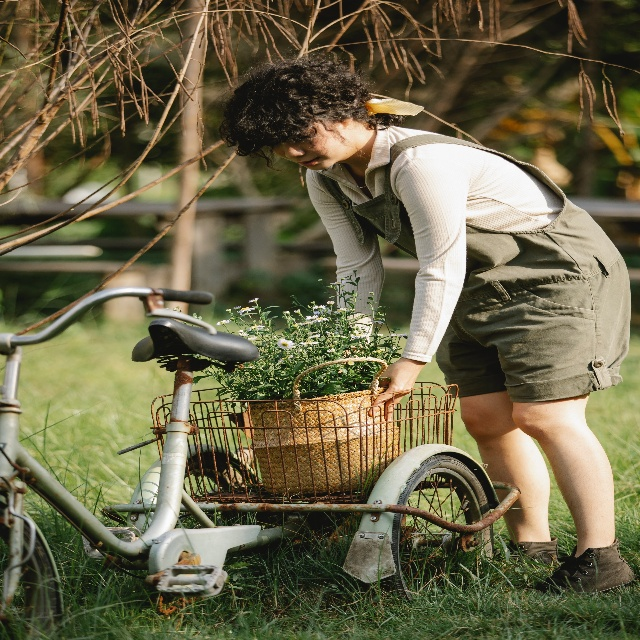Sin_guantes: (369, 359, 424, 421)
